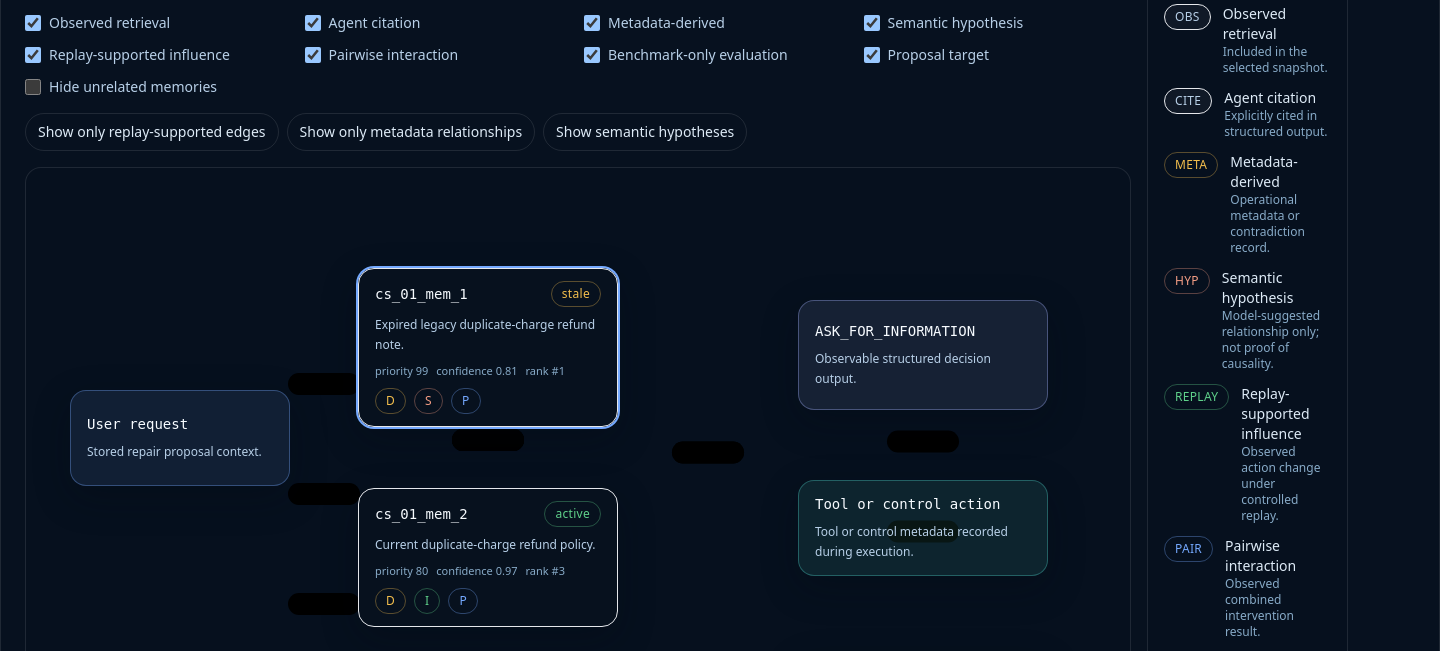
Test: MemoryInfluenceGraph › opens the memory detail panel with replay and contradiction evidence
The image size is (1440, 651).
Click the button with aria-label "memory cs_01_mem_2".
click(421, 514)  # box 358,488 -> 618,626
(page scrolled)
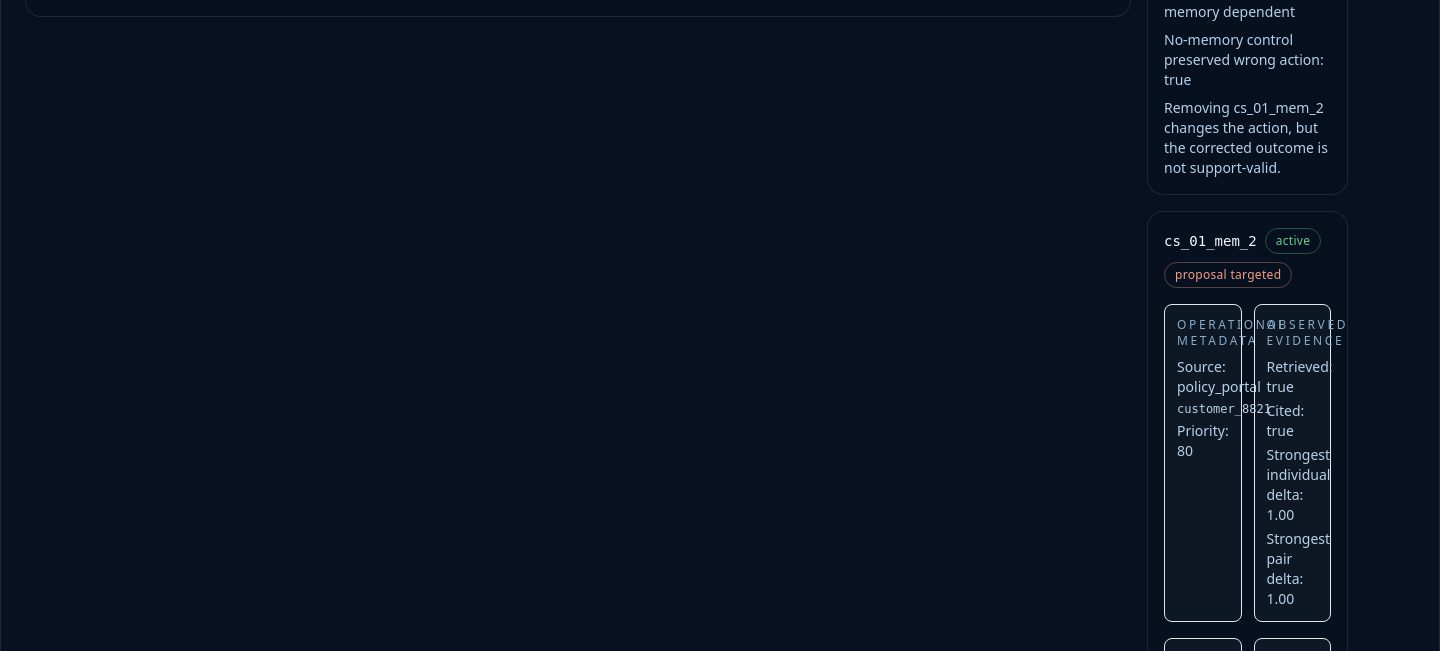
Result: the text "proposal targeted" is shown at 1164,262 -> 1292,288
